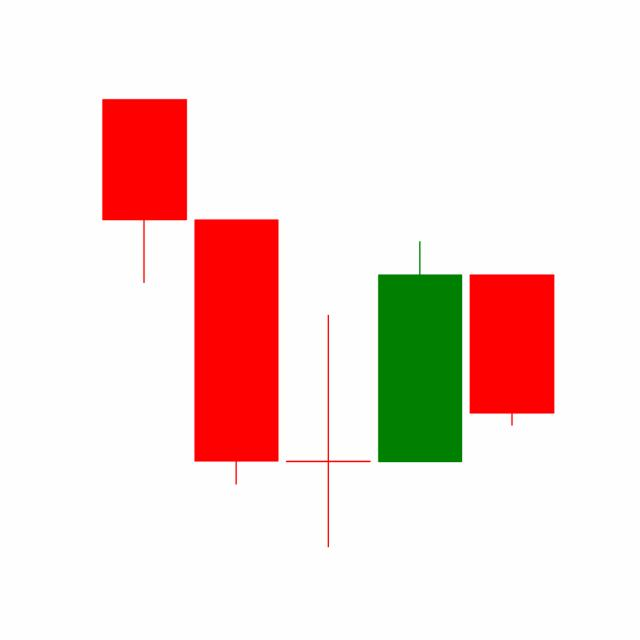Marubozu: (464, 272, 558, 428)
